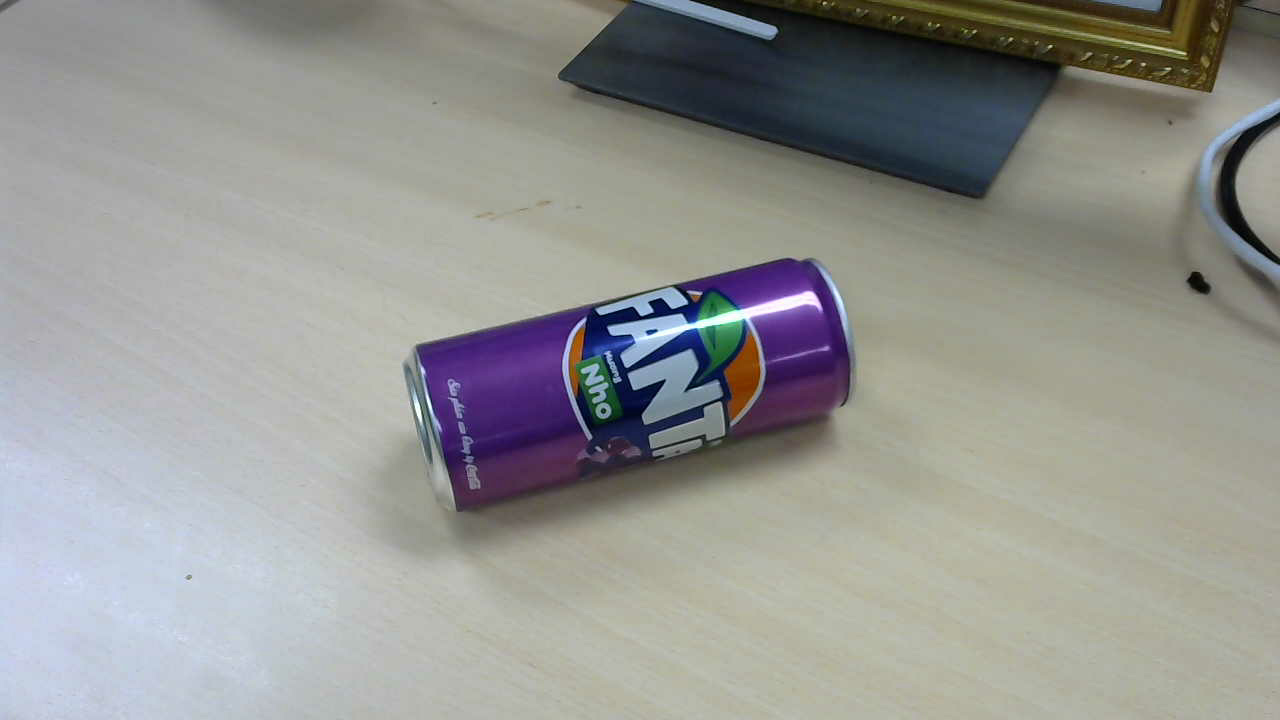Fanta: (416, 259, 858, 521)
